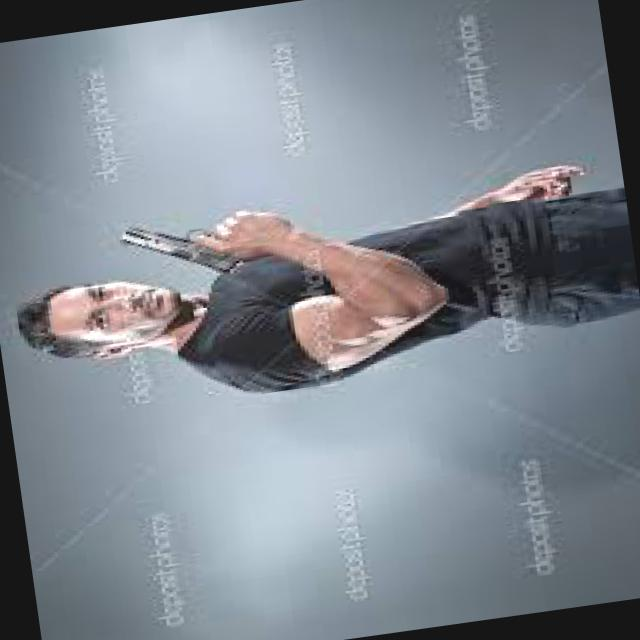handgun: (115, 214, 242, 292)
